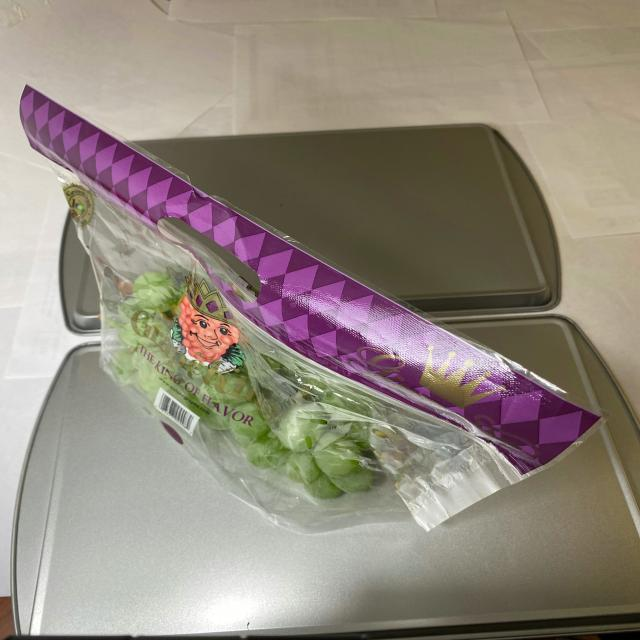grapes: (112, 260, 412, 501)
